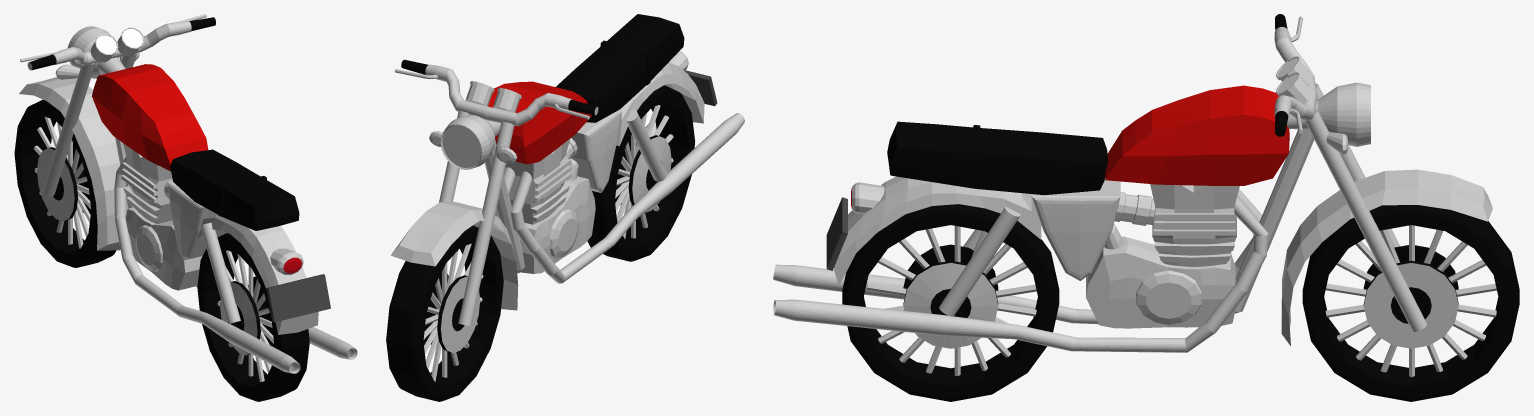
The model's file is мото.fbx.
3 renders of one model, left to right at view 1: azimuth 30°, elevation 25°; view 2: azimuth 150°, elevation 25°; view 3: azimuth 270°, elevation 25°, orthographic. The views are drawn at different scales.
Visible parts, largest first — view 1: Gauges_Cylinder.010, Gauges_Cylinder.001, Gauges_Cylinder.002; view 2: Gauges_Cylinder.010, Gauges_Cylinder.001, Gauges_Cylinder.002; view 3: Gauges_Cylinder.010, Gauges_Cylinder.001, Gauges_Cylinder.002.
Part boxes in pixels (x1=…): Gauges_Cylinder.010: x1=19, y1=14, x2=357, y2=373; Gauges_Cylinder.001: x1=14, y1=99, x2=116, y2=267; Gauges_Cylinder.002: x1=197, y1=233, x2=309, y2=401; Gauges_Cylinder.010: x1=391, y1=14, x2=744, y2=326; Gauges_Cylinder.001: x1=386, y1=225, x2=503, y2=401; Gauges_Cylinder.002: x1=587, y1=85, x2=695, y2=261; Gauges_Cylinder.010: x1=773, y1=14, x2=1492, y2=352; Gauges_Cylinder.001: x1=1302, y1=205, x2=1519, y2=401; Gauges_Cylinder.002: x1=842, y1=204, x2=1059, y2=401.
Bounding box in the file's own units: 285 × 383 × 789.
